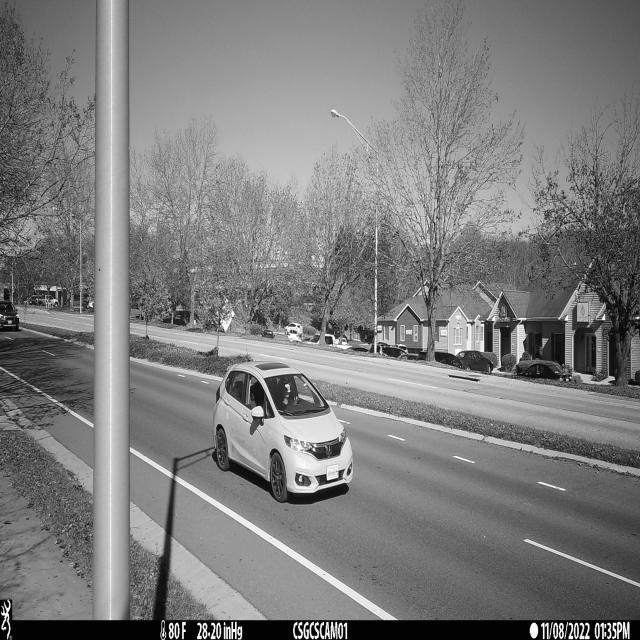Hatchback: (213, 357, 353, 503)
